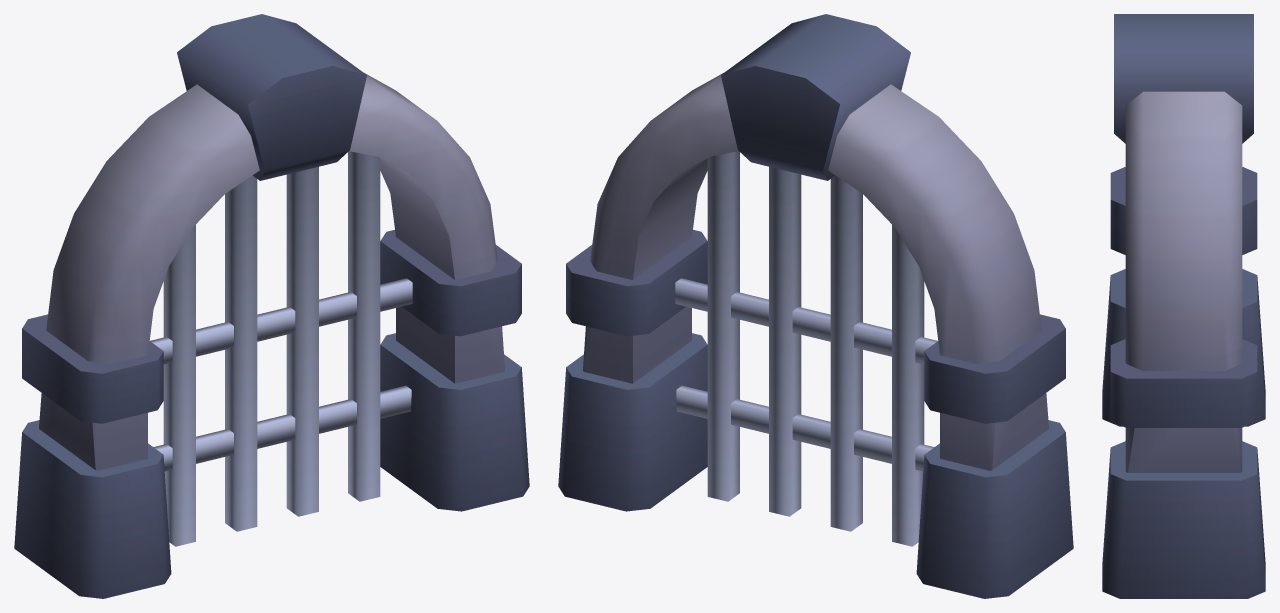
Rendered from gate-metal-bars.glb.
The picture shows the model from 3 angles, left to right: view 1: azimuth 30°, elevation 25°; view 2: azimuth 150°, elevation 25°; view 3: azimuth 270°, elevation 25°; orthographic projection.
Visible parts, largest first — view 1: gate-metal-bars4, gate3; view 2: gate-metal-bars4, gate3; view 3: gate-metal-bars4.
Boxes of the visible parts, x1=… form: gate-metal-bars4: x1=14, y1=14, x2=529, y2=598; gate3: x1=150, y1=151, x2=412, y2=546; gate-metal-bars4: x1=558, y1=14, x2=1073, y2=598; gate3: x1=675, y1=151, x2=937, y2=546; gate-metal-bars4: x1=1102, y1=14, x2=1265, y2=598.
Size of the model in its own units: 4.4 by 4.4 by 1.4.
1 material, 1 textured.
